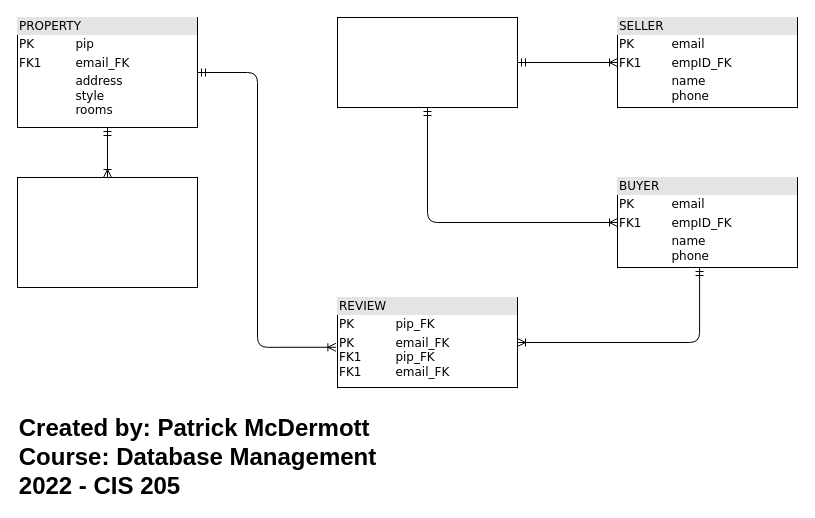
This 815x518 diagram has some shape labels left out. The shapes that lost their labels are listed below. From the top down, each one's centre as x and y in pixels, then its label:
point 427,62: AGENT PK empID FK1 name phone
point 107,232: Renter PK ssn FK1 pip_FK email name phone
